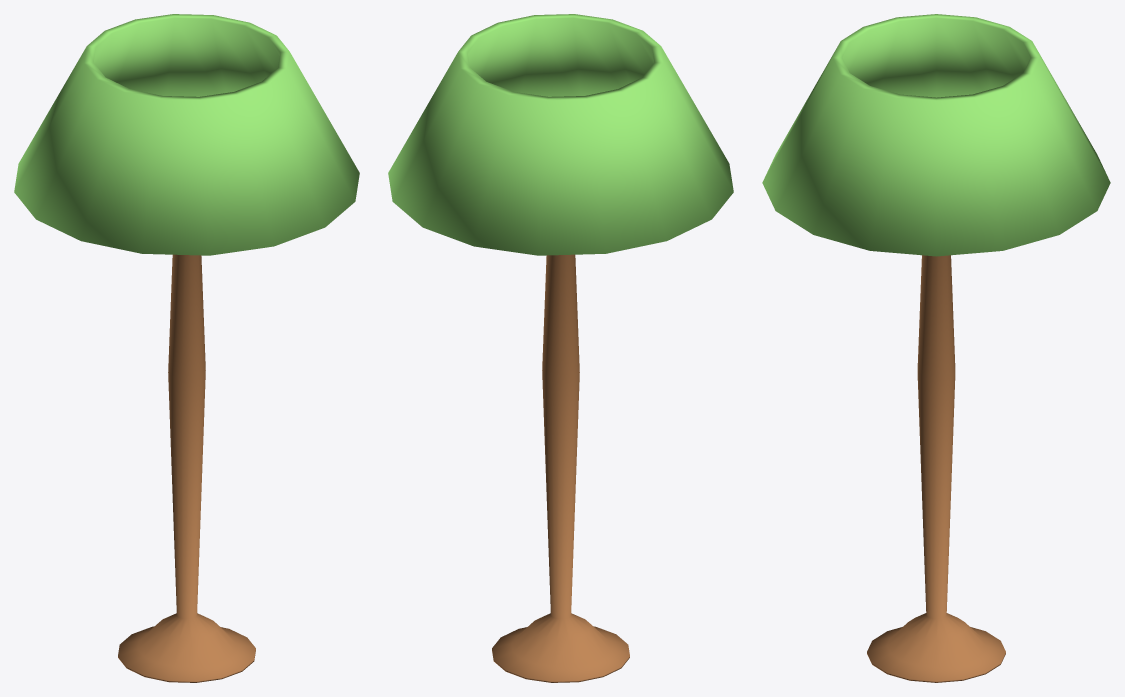
The model's file is StandingLamp.fbx.
3 views of the same model, side by side, from view 1: azimuth 30°, elevation 25°; view 2: azimuth 150°, elevation 25°; view 3: azimuth 270°, elevation 25° (orthographic).
Visible parts, largest first — view 1: Circle; view 2: Circle; view 3: Circle.
Part boxes in pixels (left/top/right/bottom): Circle: left=14, top=14, right=359, bottom=682; Circle: left=388, top=14, right=733, bottom=682; Circle: left=762, top=14, right=1110, bottom=682.
Bounding box in the file's own units: 80.74 × 152 × 80.74.
